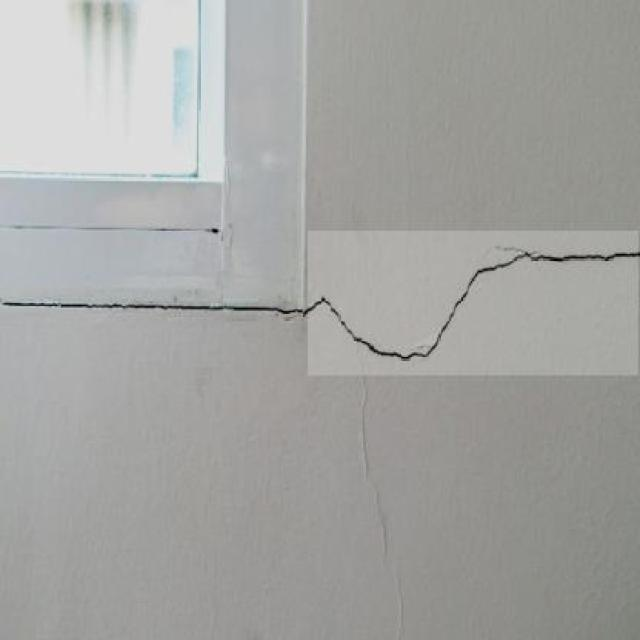Crack: (319, 234, 639, 369), (3, 283, 314, 325)
